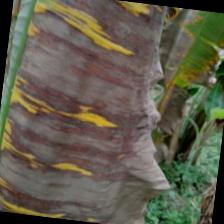sigatoka: (0, 0, 191, 224)
